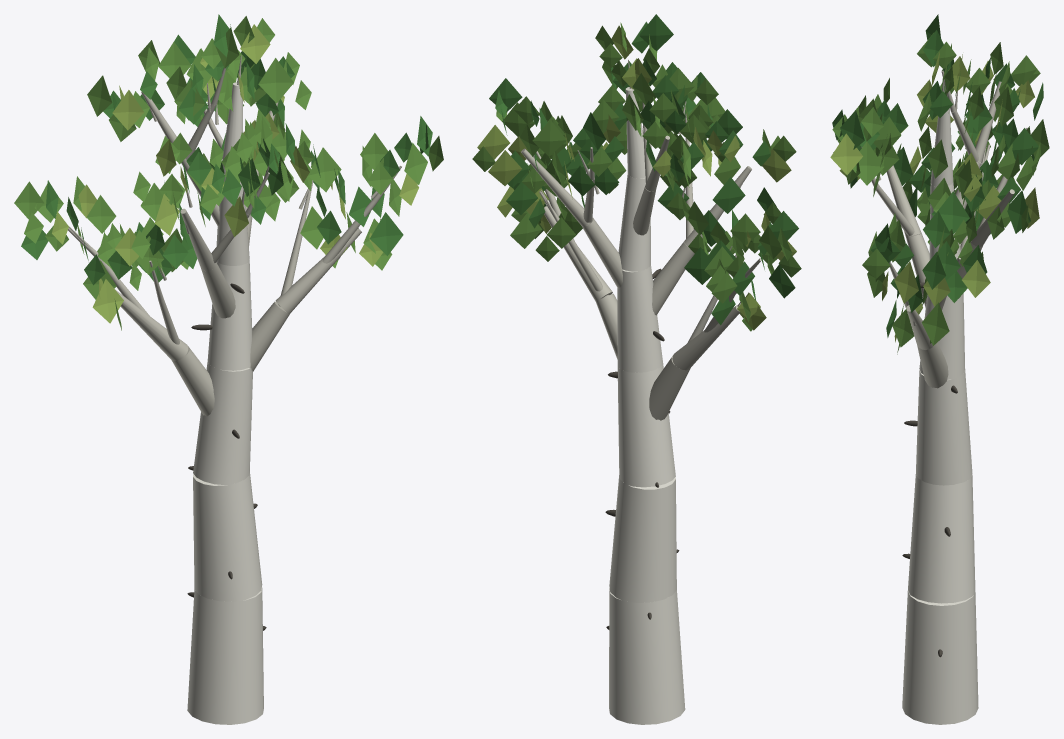
Rendered from birch_tree.glb.
The picture shows the model from 3 angles, left to right: view 1: azimuth 30°, elevation 25°; view 2: azimuth 150°, elevation 25°; view 3: azimuth 270°, elevation 25°; orthographic projection.
Parts seen in each view (by area): view 1: birch_tree; view 2: birch_tree; view 3: birch_tree.
Boxes of the visible parts, <box> form: birch_tree: <box>14,14,443,724</box>; birch_tree: <box>472,14,801,724</box>; birch_tree: <box>830,14,1049,724</box>.
Bounding box in the file's own units: 3.78 × 6.99 × 2.01.
